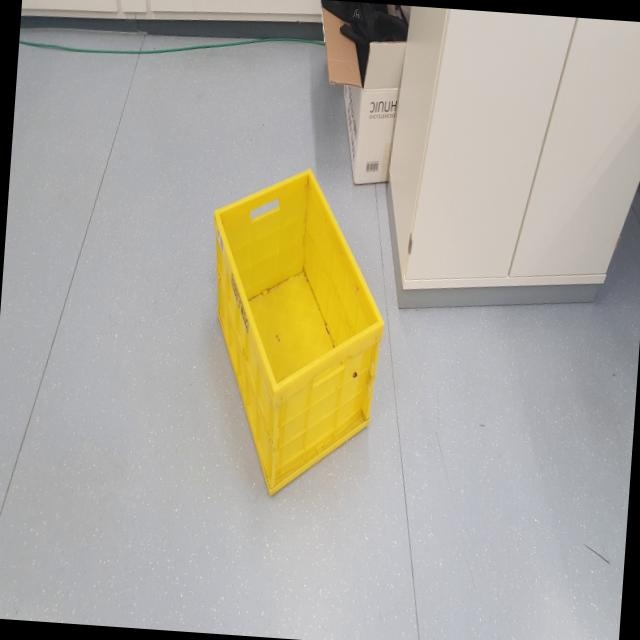box: (192, 153, 397, 518)
